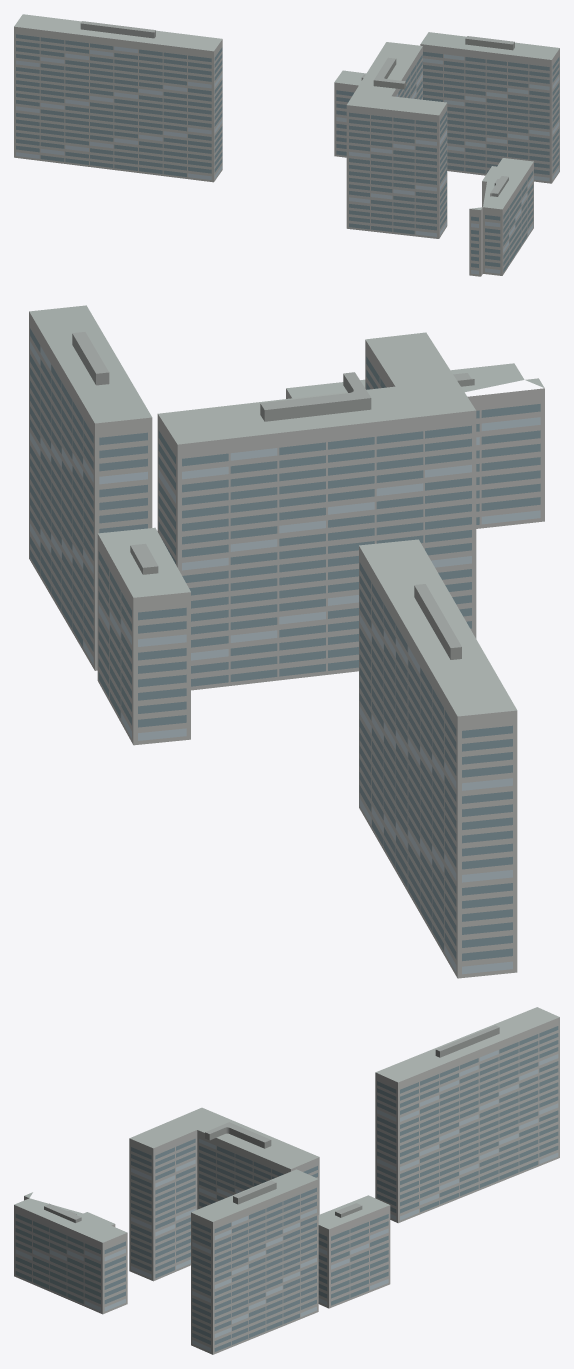
File: apt-a15609006.glb
3 renders of one model, top to bottom at view 1: azimuth 30°, elevation 25°; view 2: azimuth 150°, elevation 25°; view 3: azimuth 270°, elevation 25°, orthographic. The views are drawn at different scales.
Visible parts, largest first — view 1: apt-a15609006; view 2: apt-a15609006; view 3: apt-a15609006.
Part boxes in pixels (x1=…): apt-a15609006: x1=14, y1=14, x2=559, y2=276; apt-a15609006: x1=29, y1=305, x2=544, y2=978; apt-a15609006: x1=14, y1=1007, x2=559, y2=1354.
Bounding box in the file's own units: 166 × 55 × 185.
